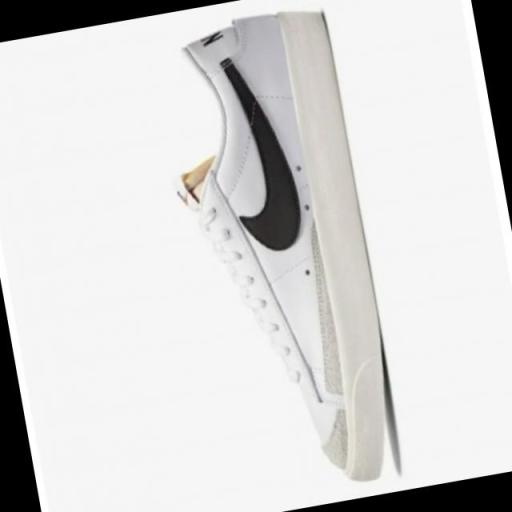Nike: (210, 45, 308, 260)
